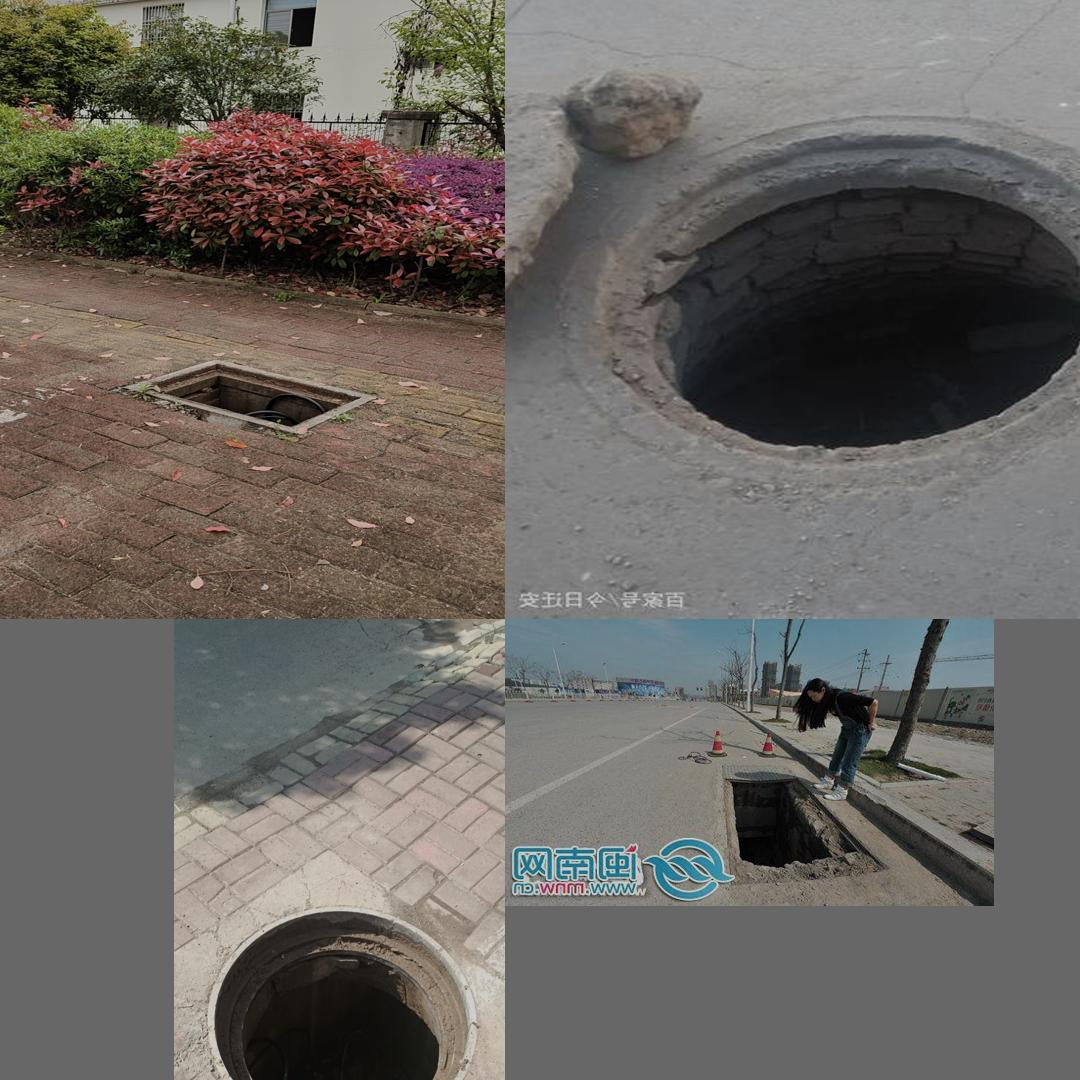lose: (580, 102, 1080, 473), (207, 906, 475, 1080), (115, 346, 395, 440), (717, 764, 865, 887)
